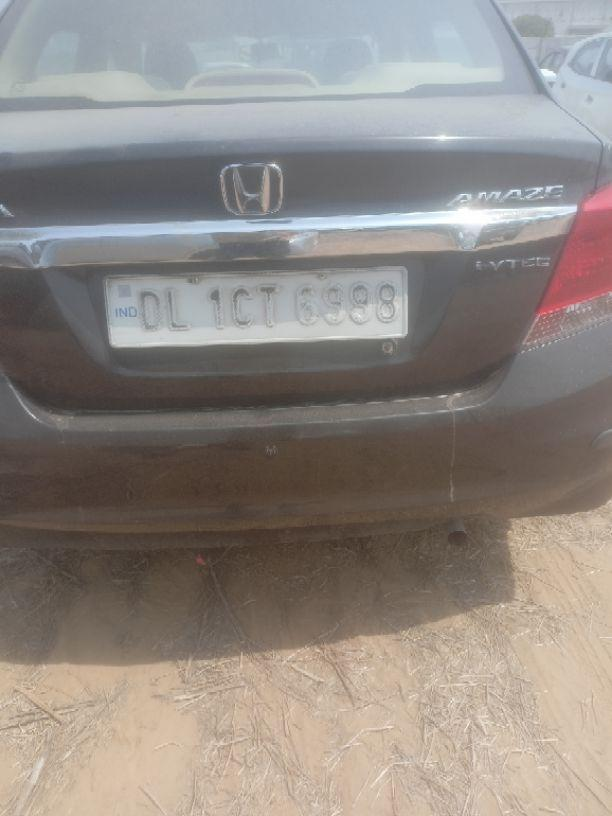license_plate: (100, 264, 409, 350)
